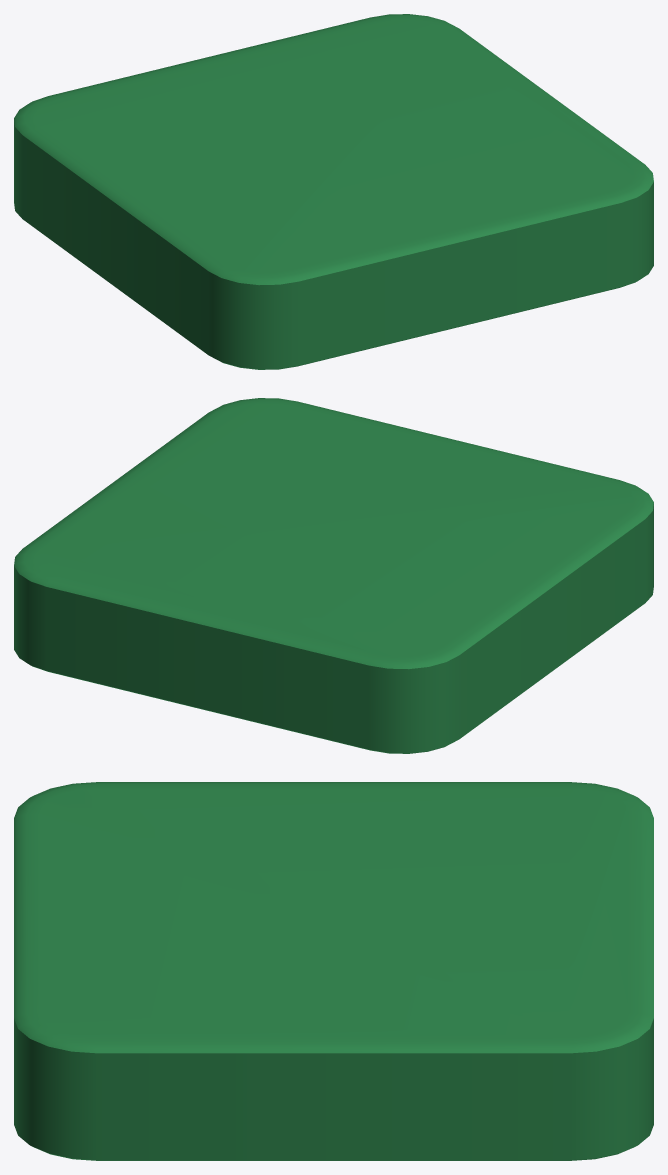
The model's file is Tile.fbx.
3 renders of one model, top to bottom at view 1: azimuth 30°, elevation 25°; view 2: azimuth 150°, elevation 25°; view 3: azimuth 270°, elevation 25°, orthographic. The views are drawn at different scales.
Visible parts, largest first — view 1: Ground; view 2: Ground; view 3: Ground.
Part boxes in pixels (x1,y1,x2,y2): Ground: (14, 14, 653, 369); Ground: (14, 398, 653, 753); Ground: (14, 782, 653, 1160).
Bounding box in the file's own units: 200 × 40 × 200.
